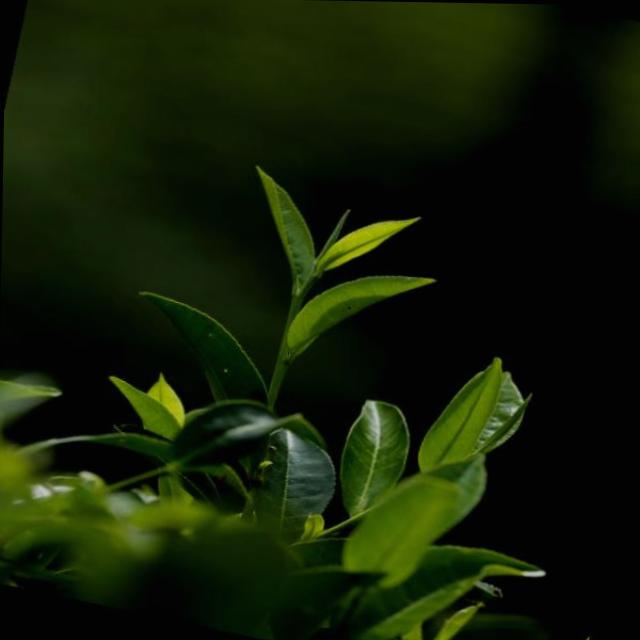Stem: (293, 288, 304, 298)
